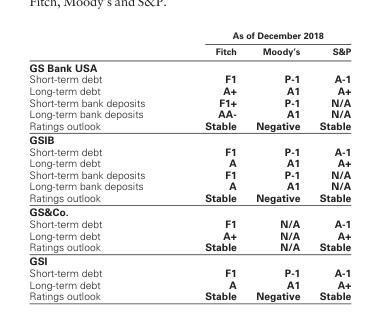table: (28, 29, 350, 301)
table column: (28, 29, 174, 301), (174, 29, 245, 301), (245, 29, 309, 301), (309, 29, 350, 301)
table column header: (28, 29, 350, 58)
table projected row header: (28, 58, 350, 72), (28, 132, 350, 145), (28, 204, 350, 217), (28, 253, 350, 266)
table row: (28, 42, 350, 58), (28, 58, 350, 72), (28, 29, 350, 42), (28, 119, 350, 132), (28, 132, 350, 145), (28, 191, 350, 204), (28, 204, 350, 217), (28, 240, 350, 253), (28, 253, 350, 266), (28, 72, 350, 84), (28, 84, 350, 96), (28, 107, 350, 119), (28, 156, 350, 168), (28, 168, 350, 180), (28, 217, 350, 229), (28, 266, 350, 278), (28, 289, 350, 301), (28, 96, 350, 107), (28, 145, 350, 156), (28, 180, 350, 191), (28, 229, 350, 240), (28, 278, 350, 289)
table spanning cell: (174, 29, 350, 42)
